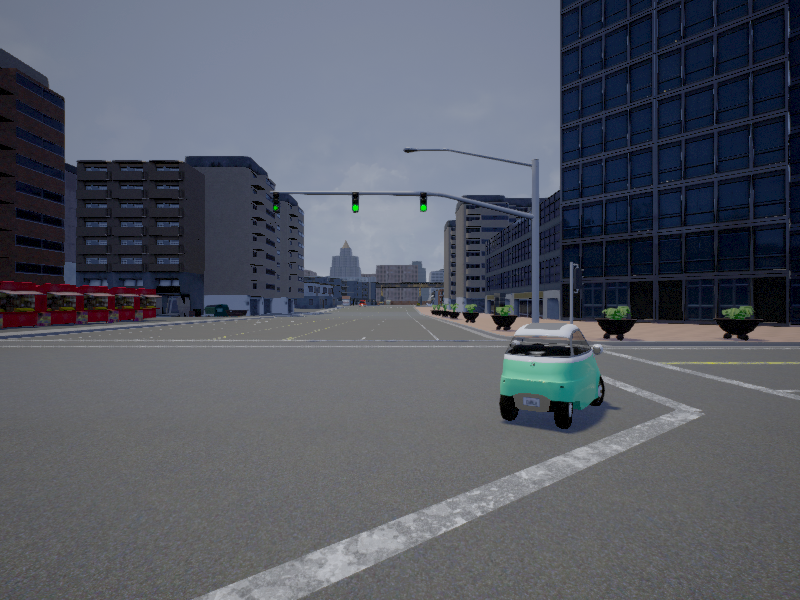Benign: (499, 321, 606, 429)
